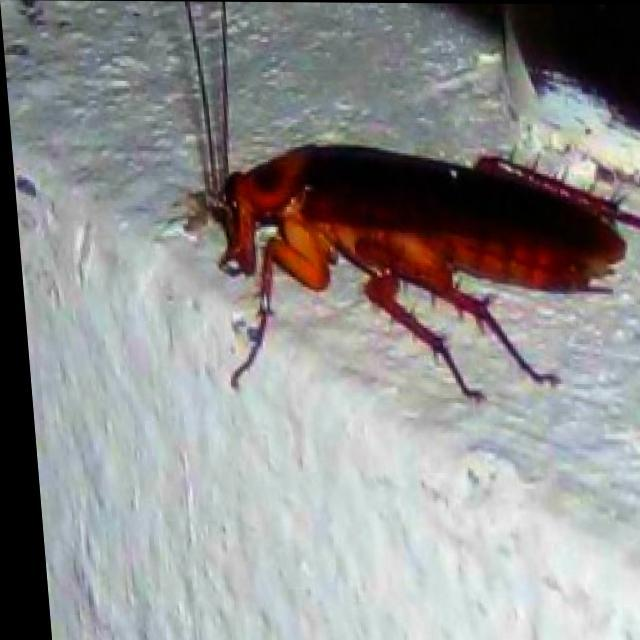cockroach: (223, 140, 631, 301)
